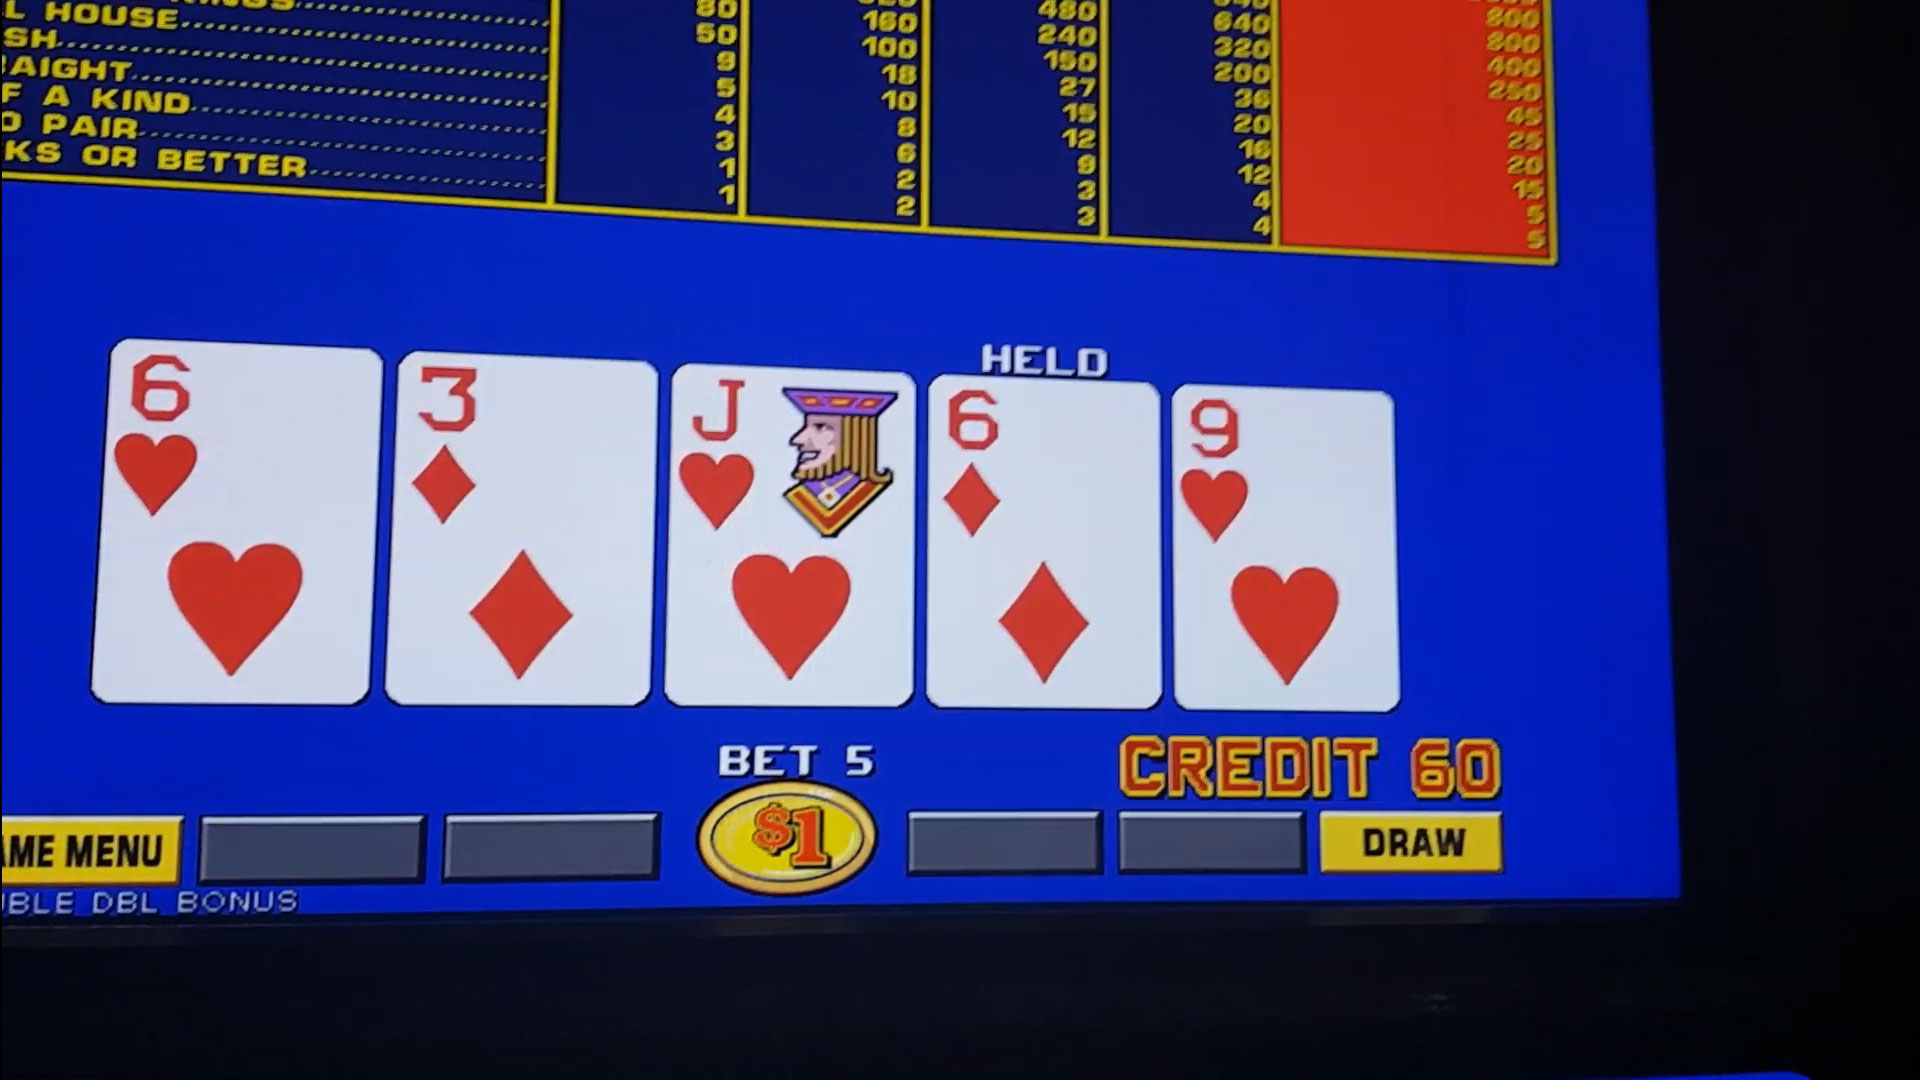D3: (401, 363, 655, 538)
D6: (935, 382, 1156, 553)
H6: (117, 353, 367, 524)
H9: (1176, 396, 1385, 554)
HJ: (678, 376, 910, 547)
